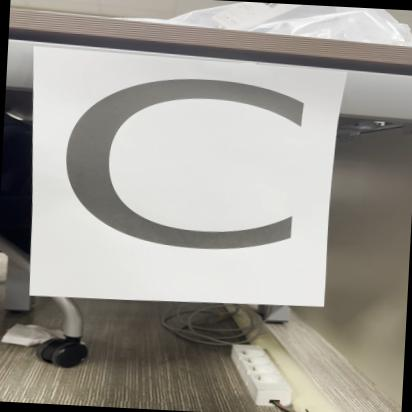seat: (28, 46, 348, 309)
